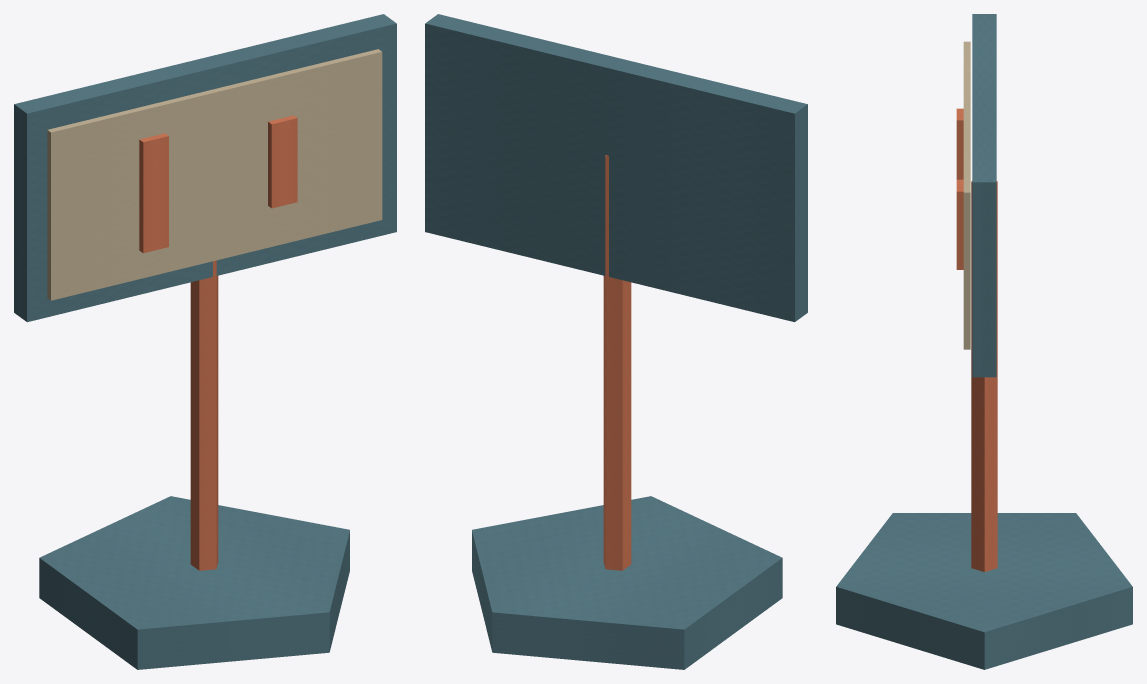
Rendered from atlas100-s041-a11.lod1.glb.
The picture shows the model from 3 angles, left to right: view 1: azimuth 30°, elevation 25°; view 2: azimuth 150°, elevation 25°; view 3: azimuth 270°, elevation 25°; orthographic projection. The views are drawn at different scales.
Visible parts, largest first — view 1: atlas100-s041-a11:part-003, atlas100-s041-a11:part-000, atlas100-s041-a11:part-002, atlas100-s041-a11:part-001, atlas100-s041-a11:part-004, atlas100-s041-a11:part-006; view 2: atlas100-s041-a11:part-002, atlas100-s041-a11:part-000, atlas100-s041-a11:part-001; view 3: atlas100-s041-a11:part-000, atlas100-s041-a11:part-002, atlas100-s041-a11:part-001, atlas100-s041-a11:part-003, atlas100-s041-a11:part-006, atlas100-s041-a11:part-004.
Boxes of the visible parts, box(x1,y1,x2,y2) form: atlas100-s041-a11:part-003: box(47, 49, 382, 300); atlas100-s041-a11:part-000: box(39, 496, 349, 669); atlas100-s041-a11:part-002: box(14, 14, 396, 322); atlas100-s041-a11:part-001: box(190, 260, 218, 570); atlas100-s041-a11:part-004: box(139, 133, 168, 253); atlas100-s041-a11:part-006: box(268, 115, 297, 208); atlas100-s041-a11:part-002: box(425, 14, 807, 322); atlas100-s041-a11:part-000: box(472, 496, 782, 669); atlas100-s041-a11:part-001: box(603, 155, 631, 570); atlas100-s041-a11:part-000: box(836, 513, 1132, 669); atlas100-s041-a11:part-002: box(972, 14, 996, 377); atlas100-s041-a11:part-001: box(971, 181, 997, 571); atlas100-s041-a11:part-003: box(963, 41, 970, 349); atlas100-s041-a11:part-006: box(956, 179, 963, 269); atlas100-s041-a11:part-004: box(956, 108, 963, 179).
Bounding box in the file's own units: 1.15 × 1.61 × 0.856.
Materials: 3 (3 with a texture image).
